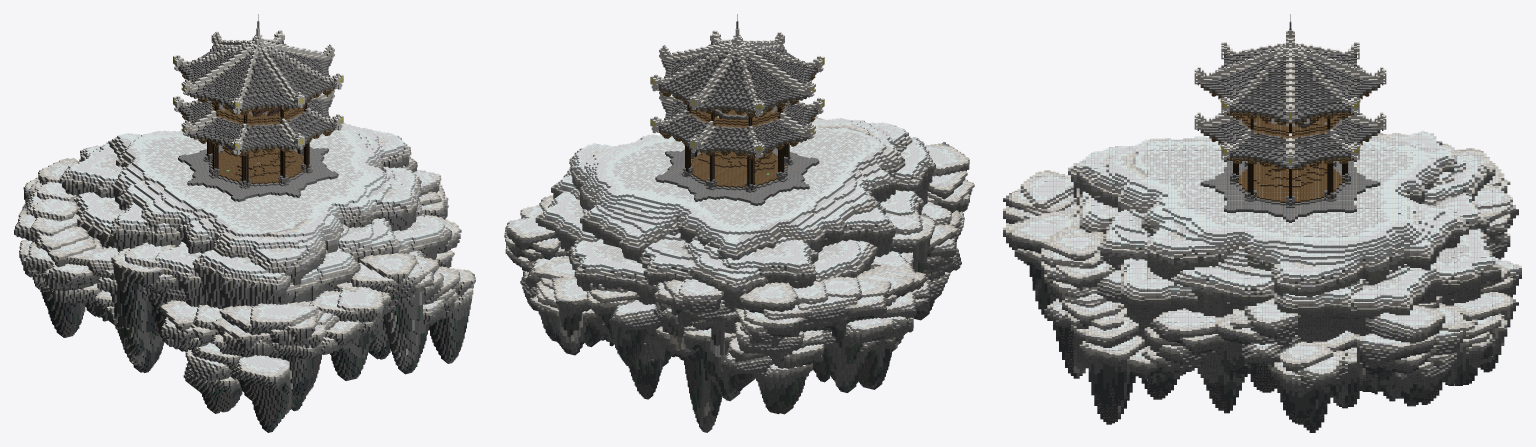
Rendered from mid.glb.
The picture shows the model from 3 angles, left to right: view 1: azimuth 30°, elevation 25°; view 2: azimuth 150°, elevation 25°; view 3: azimuth 270°, elevation 25°; orthographic projection. The views are drawn at different scales.
Parts seen in each view (by area): view 1: minecraft:snow_block; view 2: minecraft:snow_block; view 3: minecraft:snow_block.
Part boxes in pixels (box(x1,y1,x2,y2)): minecraft:snow_block: box(14, 14, 475, 432); minecraft:snow_block: box(504, 14, 974, 432); minecraft:snow_block: box(1003, 14, 1521, 432).
Size of the model in its own units: 174 by 151 by 176.
Materials: 34 (34 with a texture image).
